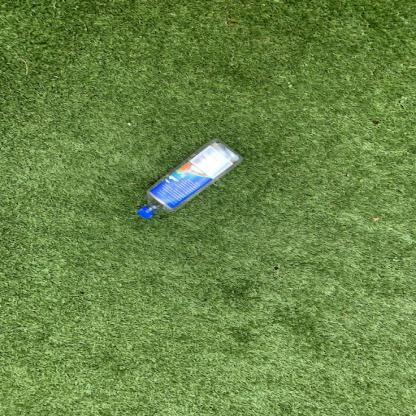trash: (136, 139, 243, 221)
